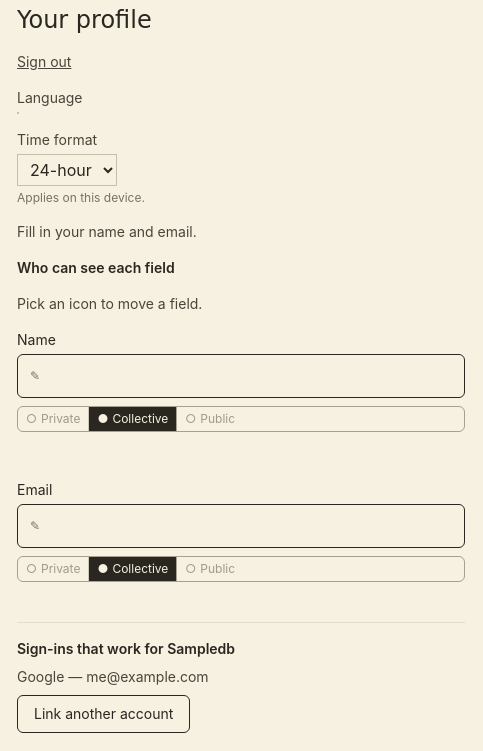
/profile — mint failures name their step (#193 review F2) › a mint failure at phase identity-read surfaces that step by name
Check: the element with test id "profile-field-name" is shown, box [17,330,465,456]
What coordinates should you click on to do the following:
click the button with test id "profile-link-another"
I would click on:
 (104, 714)
Its box is [17,695,190,733].
(page scrolled)
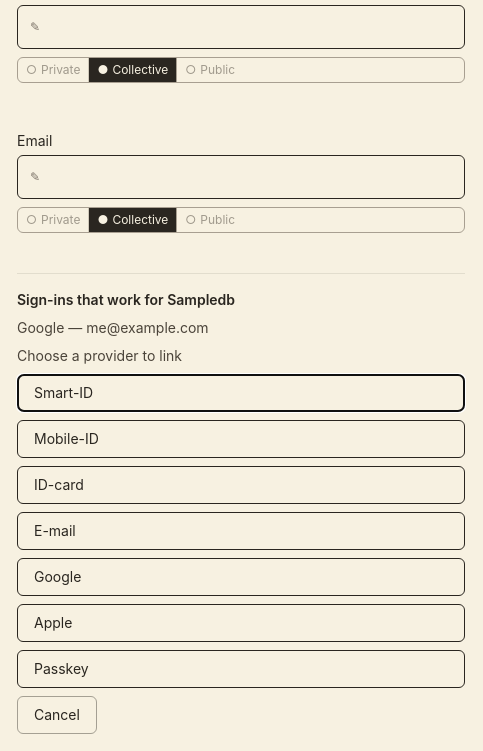
Check: the button with test id "profile-link-provider-apple" is shown
What coordinates should you click on to do the following:
click the button with test id "profile-link-provider-apple"
I would click on:
 (53, 622)
Its box is [17,604,465,642].
(page scrolled)
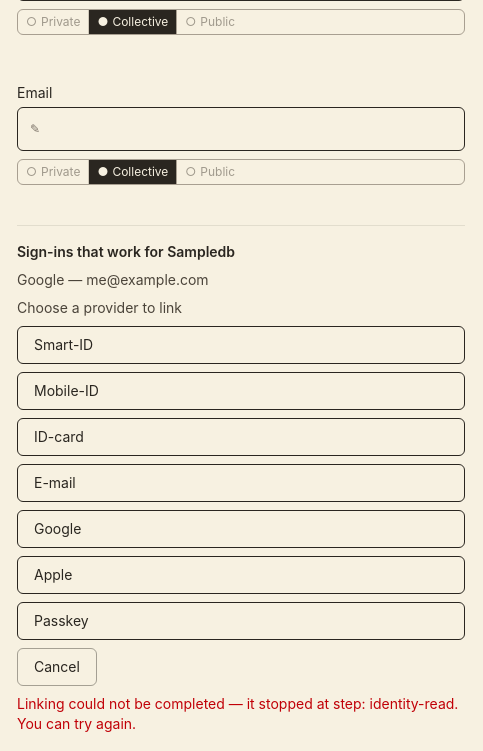
Check: the message with test id "profile-link-error" is shown, box [17,694,465,734]
Check: the message with test id "profile-link-error" shows "it stopped at step: identity-read", box [17,695,458,732]
